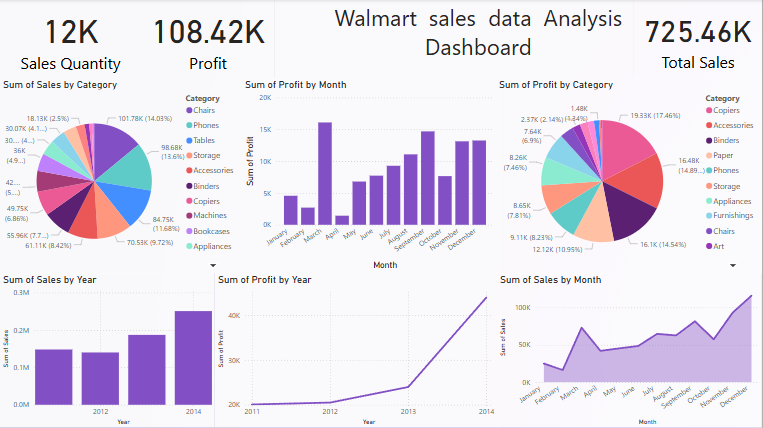

The page's visual inventory and layout, read from the dashboard file:
{"tool":"powerbi","page":{"name":"Page 1","canvas":[1280,720],"ordinal":0},"visuals":[{"type":"card","fields":{"Values":["Sum(Walmart.Sales)"]},"box":[1065,0,215,132.7],"z":0},{"type":"card","fields":{"Values":["Sum(Walmart.Quantity)"]},"box":[0,0,236.9,132.7],"z":1000},{"type":"card","fields":{"Values":["Sum(Walmart.Profit)"]},"box":[236.9,0,225.1,132.7],"z":2000},{"type":"pieChart","fields":{"Category":["Walmart.Category"],"Y":["Sum(Walmart.Sales)"]},"box":[0,132.7,406.5,327.6],"z":3000},{"type":"lineStackedColumnComboChart","fields":{"Category":["Walmart.Order Date.Variation.Date Hierarchy.Year"],"Y":["Sum(Walmart.Sales)"]},"box":[0,460.3,361.2,260.4],"z":4000},{"type":"stackedAreaChart","fields":{"Category":["Walmart.Order Date.Variation.Date Hierarchy.Month"],"Y":["Sum(Walmart.Sales)"]},"box":[834.9,460.3,445.1,260.4],"z":5000},{"type":"pieChart","fields":{"Category":["Walmart.Category"],"Y":["Sum(Walmart.Profit)"]},"box":[833.2,132.7,446.8,327.6],"z":6000},{"type":"textbox","box":[461.9,0,603,132.7],"z":7000},{"type":"lineChart","fields":{"Category":["Walmart.Order Date.Variation.Date Hierarchy.Year"],"Y":["Sum(Walmart.Profit)"]},"box":[361.2,460.3,473.7,260.4],"z":8000},{"type":"columnChart","fields":{"Category":["Walmart.Order Date.Variation.Date Hierarchy.Month"],"Y":["Sum(Walmart.Profit)"]},"box":[406.5,132.7,426.7,327.6],"z":9000}]}

Visuals, with their boxes in screenshot pixels (x1, y1, x2, y2), scaled from the page's 1280x720 canvas onto the 763x428 screenshot:
card - Sum(Walmart.Sales): rect(635, 0, 762, 79)
card - Sum(Walmart.Quantity): rect(0, 0, 141, 79)
card - Sum(Walmart.Profit): rect(141, 0, 275, 79)
pieChart - Walmart.Category x Sum(Walmart.Sales): rect(0, 79, 242, 274)
lineStackedColumnComboChart - Walmart.Order Date.Variation.Date Hierarchy.Year x Sum(Walmart.Sales): rect(0, 274, 215, 427)
stackedAreaChart - Walmart.Order Date.Variation.Date Hierarchy.Month x Sum(Walmart.Sales): rect(498, 274, 762, 427)
pieChart - Walmart.Category x Sum(Walmart.Profit): rect(497, 79, 762, 274)
textbox: rect(275, 0, 635, 79)
lineChart - Walmart.Order Date.Variation.Date Hierarchy.Year x Sum(Walmart.Profit): rect(215, 274, 498, 427)
columnChart - Walmart.Order Date.Variation.Date Hierarchy.Month x Sum(Walmart.Profit): rect(242, 79, 497, 274)
